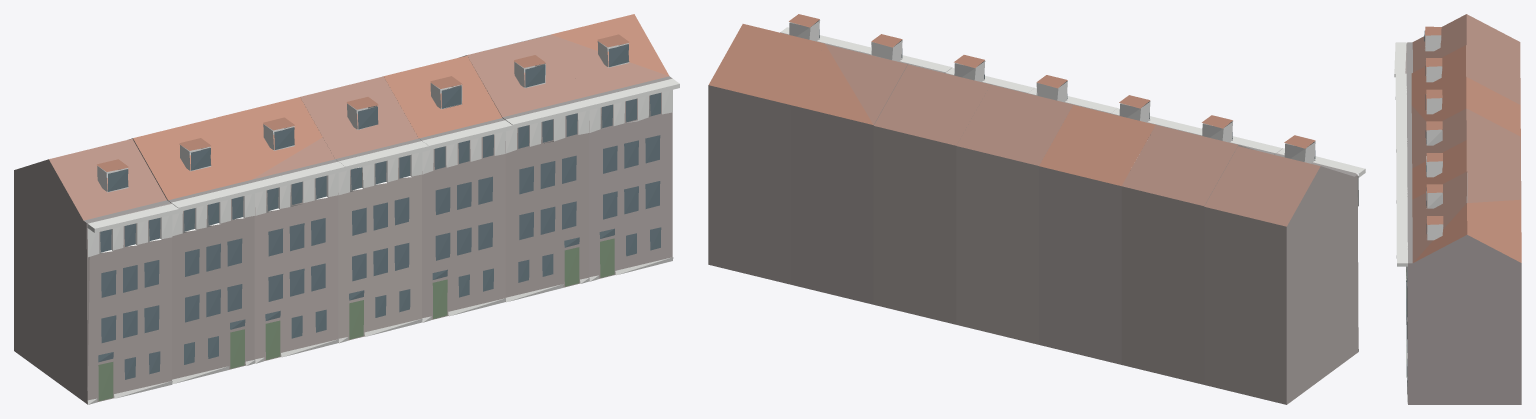
Rendered from chunk-face-gorontalo-25-47-r1.lod2.glb.
3 renders of one model, left to right at view 1: azimuth 30°, elevation 25°; view 2: azimuth 150°, elevation 25°; view 3: azimuth 270°, elevation 25°, orthographic. The views are drawn at different scales.
Parts seen in each view (by area): view 1: lod2; view 2: lod2; view 3: lod2.
Boxes of the visible parts, box(x1,y1,x2,y2) form: lod2: box(14, 14, 679, 404); lod2: box(708, 14, 1365, 404); lod2: box(1394, 14, 1521, 404).
Size of the model in its own units: 43.01 by 15.35 by 10.41.
